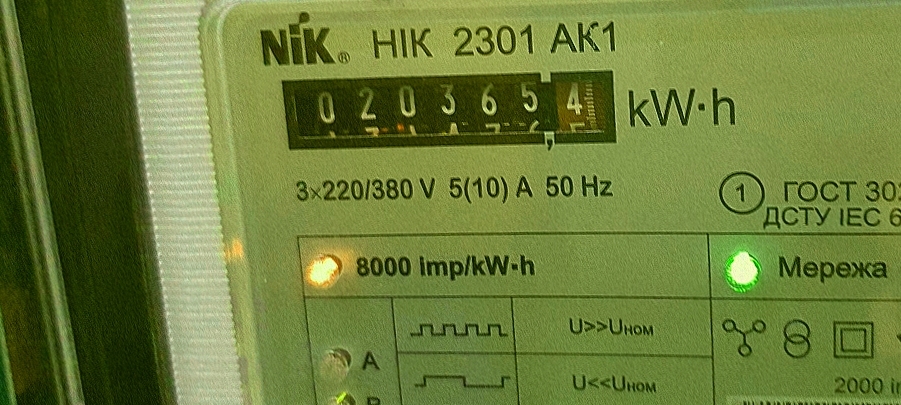0: (314, 89, 335, 124), (396, 83, 416, 119)
2: (354, 85, 376, 121)
3: (437, 80, 456, 115)
4: (563, 80, 583, 115)
5: (518, 80, 538, 112)
6: (477, 81, 497, 116)
screen: (264, 55, 634, 163)
